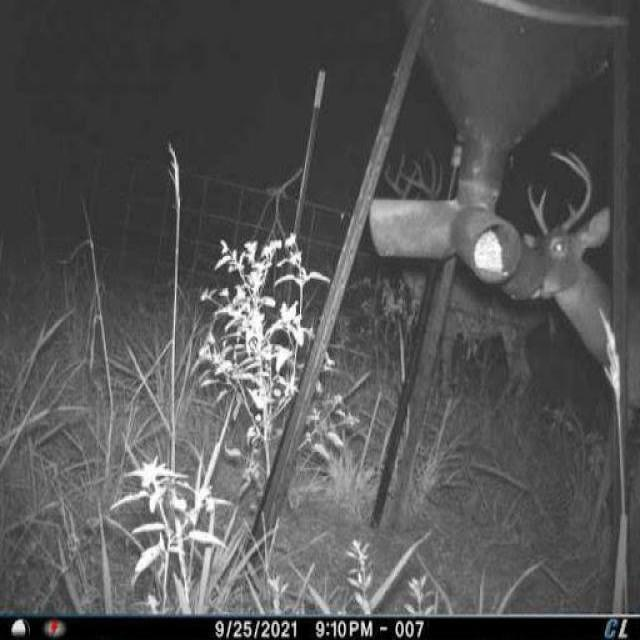deer: (516, 141, 640, 544), (372, 144, 554, 408)
